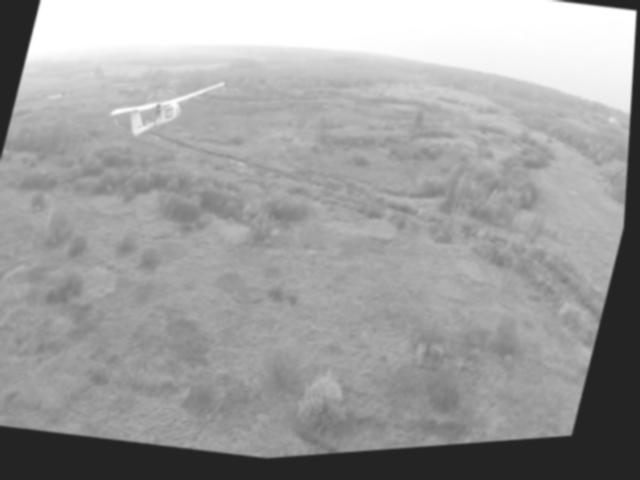hedef: (108, 61, 229, 159)
